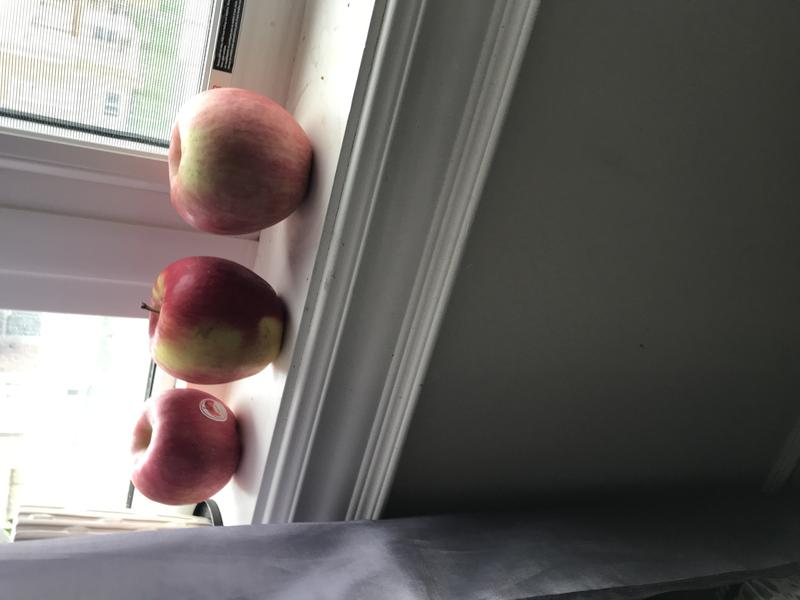red_apple: (158, 85, 323, 235), (141, 250, 296, 387), (118, 388, 251, 516)
